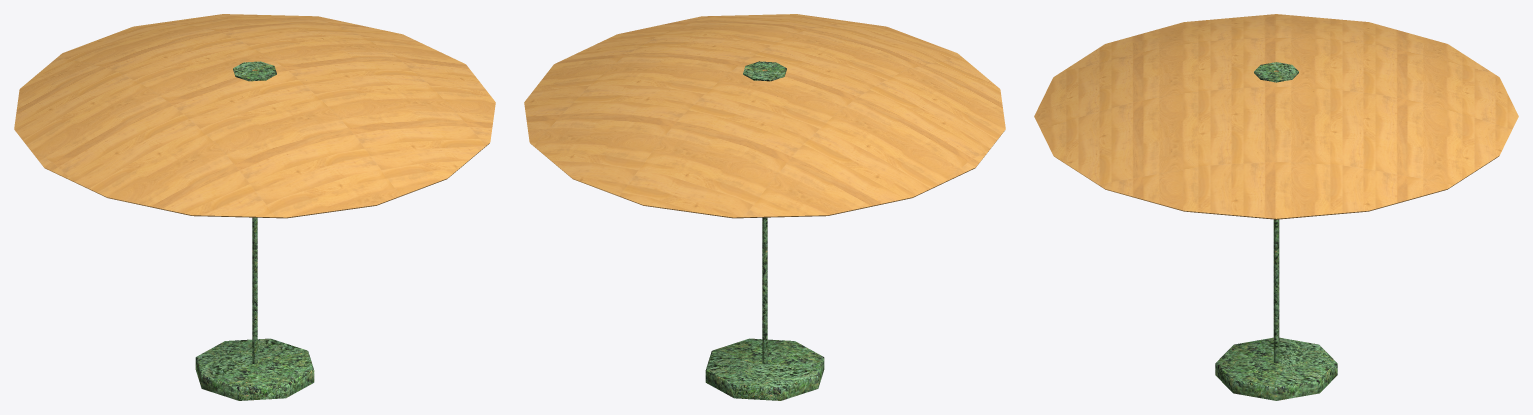
Rendered from SunThing.fbx.
3 renders of one model, left to right at view 1: azimuth 30°, elevation 25°; view 2: azimuth 150°, elevation 25°; view 3: azimuth 270°, elevation 25°, orthographic.
Visible parts, largest first — view 1: SunThing; view 2: SunThing; view 3: SunThing.
Boxes of the visible parts, x1,y1,x2,y2 form: SunThing: (14,14,495,400); SunThing: (524,14,1005,400); SunThing: (1034,14,1518,400).
Bounding box in the file's own units: 367 × 254 × 367.
